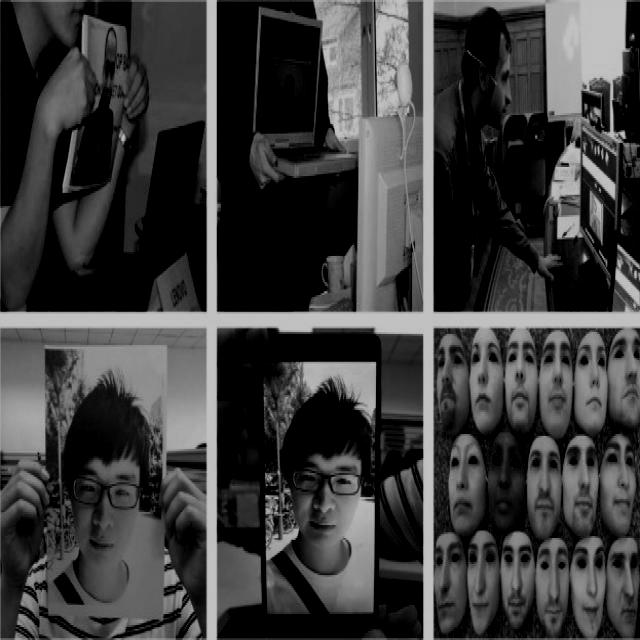fake: (256, 329, 382, 633), (40, 339, 172, 629), (63, 11, 130, 200)
